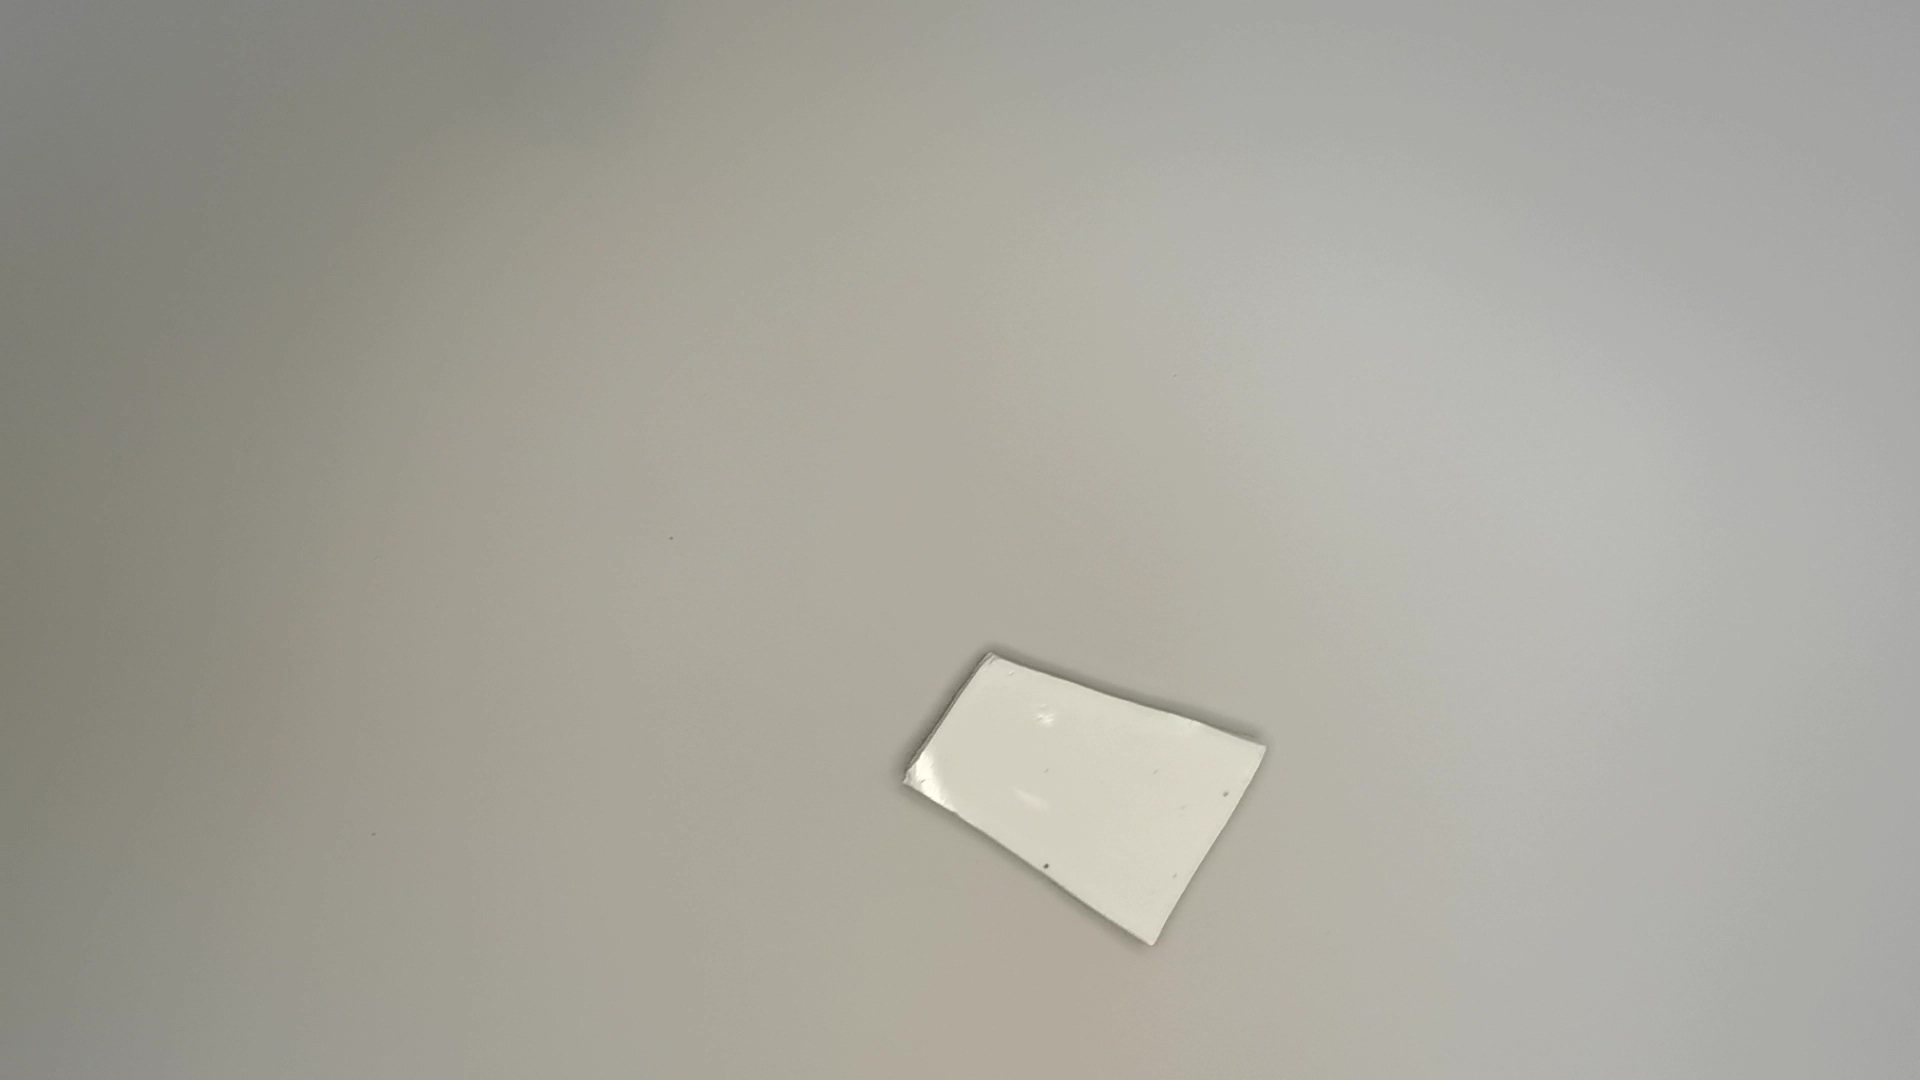ceramic: (895, 650, 1269, 945)
